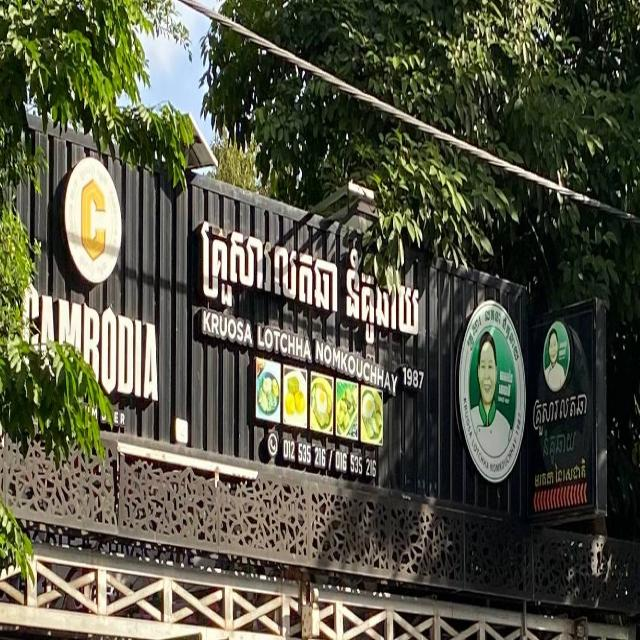Yolov11kh: (192, 210, 428, 354), (280, 433, 380, 489), (530, 386, 590, 437), (532, 458, 586, 491), (397, 355, 429, 394), (540, 431, 580, 461)
